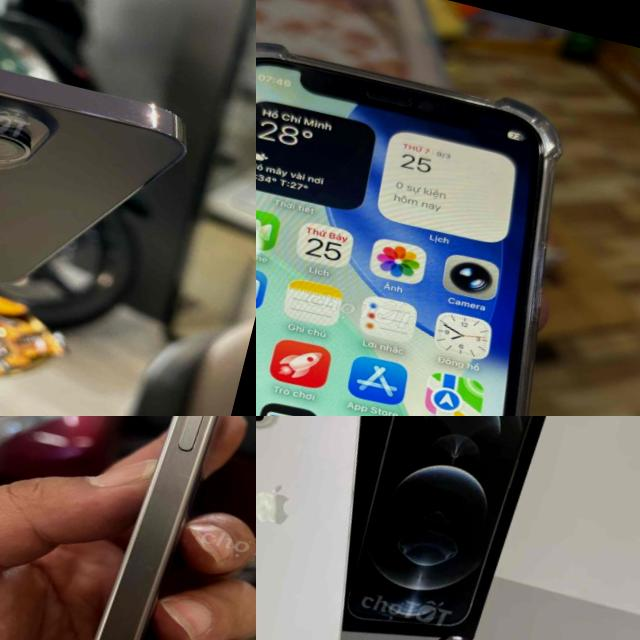gen_12_13: (256, 21, 627, 416), (256, 416, 414, 640)
gen_14: (0, 9, 203, 345)
gen_15: (30, 416, 256, 640)
